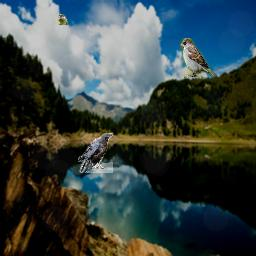Crow: (78, 133, 113, 173)
Sparrow: (180, 38, 217, 78), (58, 14, 68, 25)
